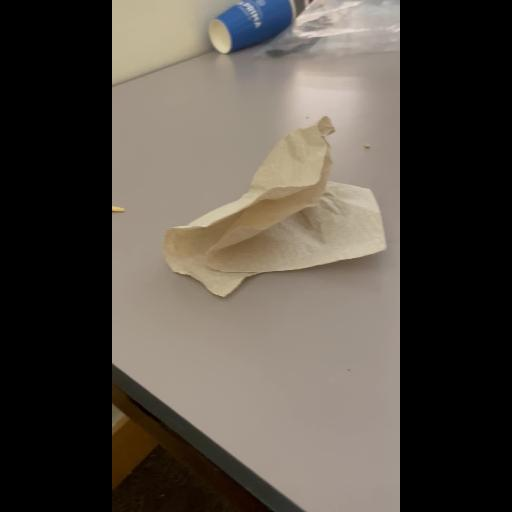napkin: (158, 101, 392, 373)
